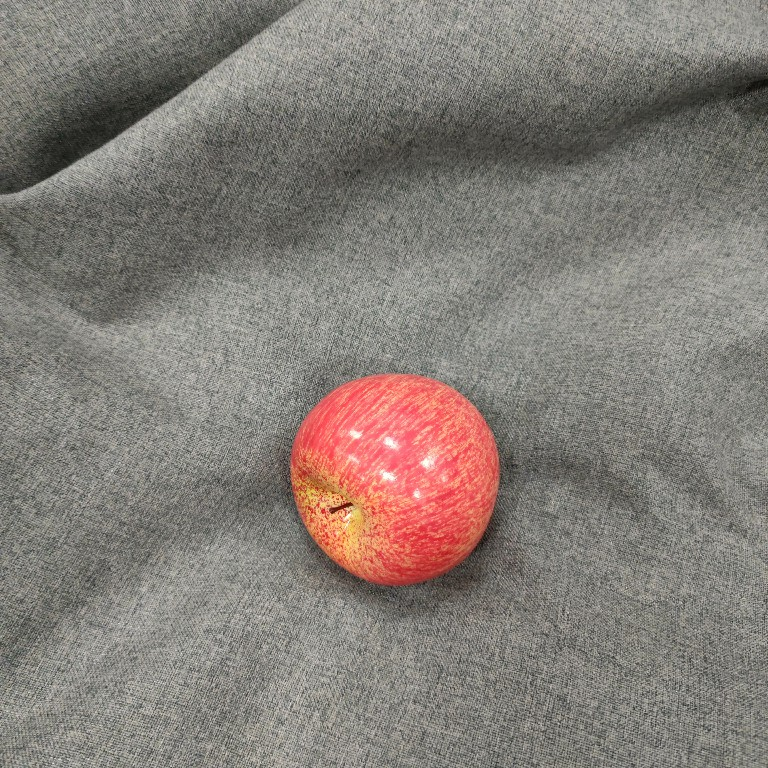fruit_apple: (281, 365, 503, 591)
